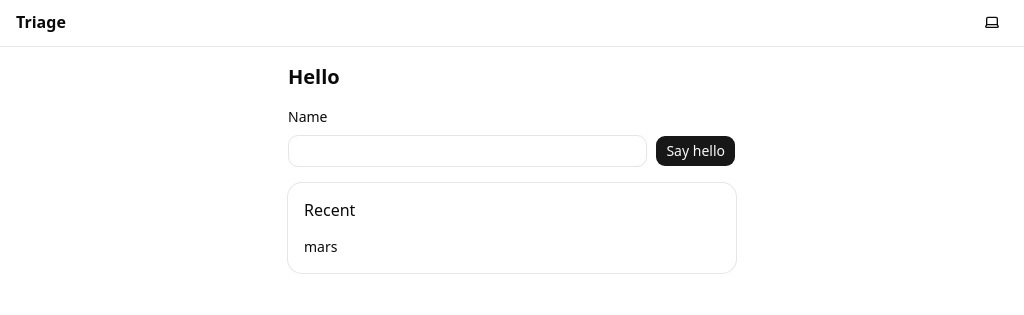
Test: submitting a name adds it at the top of the list
Type "  world " into the field labelled "Name". click: point(468, 151)
box: 288,135 -> 647,167
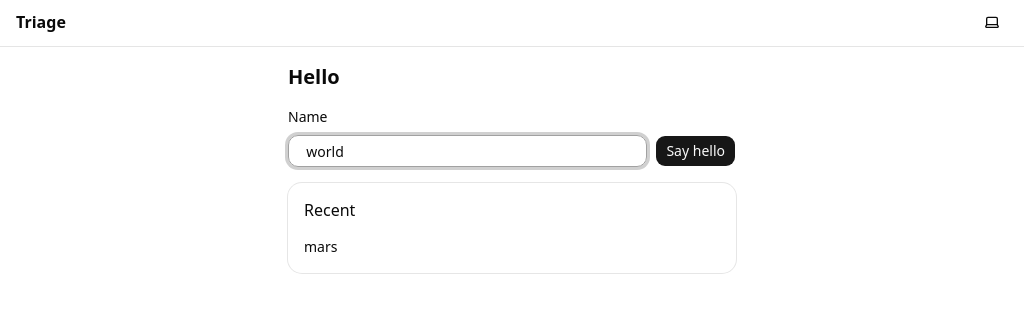
Click the button "Say hello". click: point(696, 151)
box: 655,135 -> 736,167
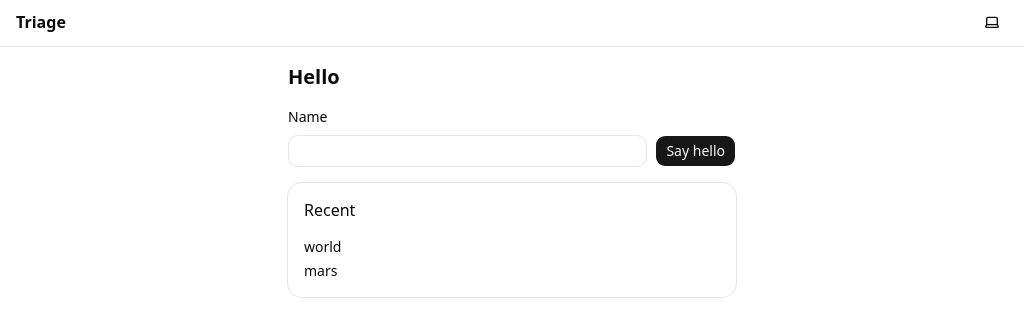
Now the list item "world" is shown, box 304,237 -> 342,256
Now the field labelled "Name" is empty, box 288,135 -> 647,167
